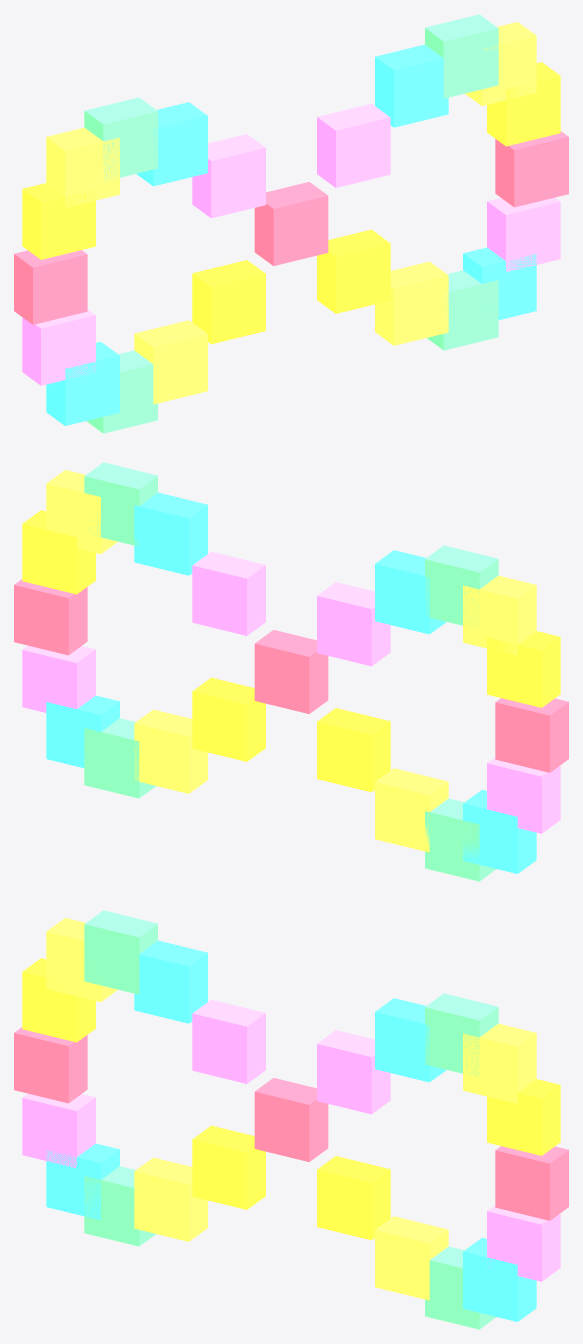
The model's file is FXInfinity.fbx.
3 renders of one model, top to bottom at view 1: azimuth 30°, elevation 25°; view 2: azimuth 150°, elevation 25°; view 3: azimuth 330°, elevation 25°, orthographic.
Visible parts, largest first — view 1: FX Infinity_body_5, FX Infinity_body_18, FX Infinity_body_7, FX Infinity_body_19, FX Infinity_body_4, FX Infinity_body_20, FX Infinity_body_17, FX Infinity_body_12, FX Infinity_body_14, FX Infinity_body_13, FX Infinity_body_0, FX Infinity_body_3 (+11 smaller); view 2: FX Infinity_body_5, FX Infinity_body_18, FX Infinity_body_7, FX Infinity_body_19, FX Infinity_body_4, FX Infinity_body_17, FX Infinity_body_12, FX Infinity_body_20, FX Infinity_body_13, FX Infinity_body_14, FX Infinity_body_0, FX Infinity_body_8 (+11 smaller); view 3: FX Infinity_body_17, FX Infinity_body_18, FX Infinity_body_19, FX Infinity_body_7, FX Infinity_body_16, FX Infinity_body_8, FX Infinity_body_5, FX Infinity_body_2, FX Infinity_body_0, FX Infinity_body_12, FX Infinity_body_15, FX Infinity_body_11 (+11 smaller).
Boxes of the visible parts, x1=… form: FX Infinity_body_5: x1=317, y1=103, x2=390, y2=187; FX Infinity_body_18: x1=254, y1=182, x2=328, y2=265; FX Infinity_body_7: x1=192, y1=260, x2=265, y2=344; FX Infinity_body_19: x1=317, y1=229, x2=390, y2=313; FX Infinity_body_4: x1=375, y1=44, x2=448, y2=127; FX Infinity_body_20: x1=375, y1=261, x2=448, y2=345; FX Infinity_body_17: x1=192, y1=134, x2=265, y2=218; FX Infinity_body_12: x1=14, y1=250, x2=87, y2=324; FX Infinity_body_14: x1=46, y1=127, x2=119, y2=207; FX Infinity_body_13: x1=22, y1=183, x2=95, y2=259; FX Infinity_body_0: x1=495, y1=131, x2=568, y2=207; FX Infinity_body_3: x1=425, y1=14, x2=498, y2=98; FX Infinity_body_5: x1=192, y1=551, x2=265, y2=635; FX Infinity_body_18: x1=254, y1=630, x2=328, y2=713; FX Infinity_body_7: x1=317, y1=708, x2=390, y2=792; FX Infinity_body_19: x1=192, y1=677, x2=265, y2=761; FX Infinity_body_4: x1=134, y1=492, x2=207, y2=575; FX Infinity_body_17: x1=317, y1=582, x2=390, y2=666; FX Infinity_body_12: x1=495, y1=698, x2=568, y2=772; FX Infinity_body_20: x1=134, y1=709, x2=207, y2=793; FX Infinity_body_13: x1=487, y1=631, x2=560, y2=707; FX Infinity_body_14: x1=463, y1=575, x2=536, y2=655; FX Infinity_body_0: x1=14, y1=579, x2=87, y2=655; FX Infinity_body_8: x1=375, y1=768, x2=448, y2=852; FX Infinity_body_17: x1=192, y1=999, x2=265, y2=1083; FX Infinity_body_18: x1=254, y1=1078, x2=328, y2=1161; FX Infinity_body_19: x1=317, y1=1156, x2=390, y2=1240; FX Infinity_body_7: x1=192, y1=1125, x2=265, y2=1209; FX Infinity_body_16: x1=134, y1=940, x2=207, y2=1023; FX Infinity_body_8: x1=134, y1=1157, x2=207, y2=1241; FX Infinity_body_5: x1=317, y1=1030, x2=390, y2=1114; FX Infinity_body_2: x1=463, y1=1023, x2=536, y2=1103; FX Infinity_body_0: x1=495, y1=1146, x2=568, y2=1220; FX Infinity_body_12: x1=14, y1=1027, x2=87, y2=1103; FX Infinity_body_15: x1=84, y1=910, x2=157, y2=994; FX Infinity_body_11: x1=22, y1=1093, x2=95, y2=1167.
Bounding box in the file's own units: 490 × 270 × 30.
